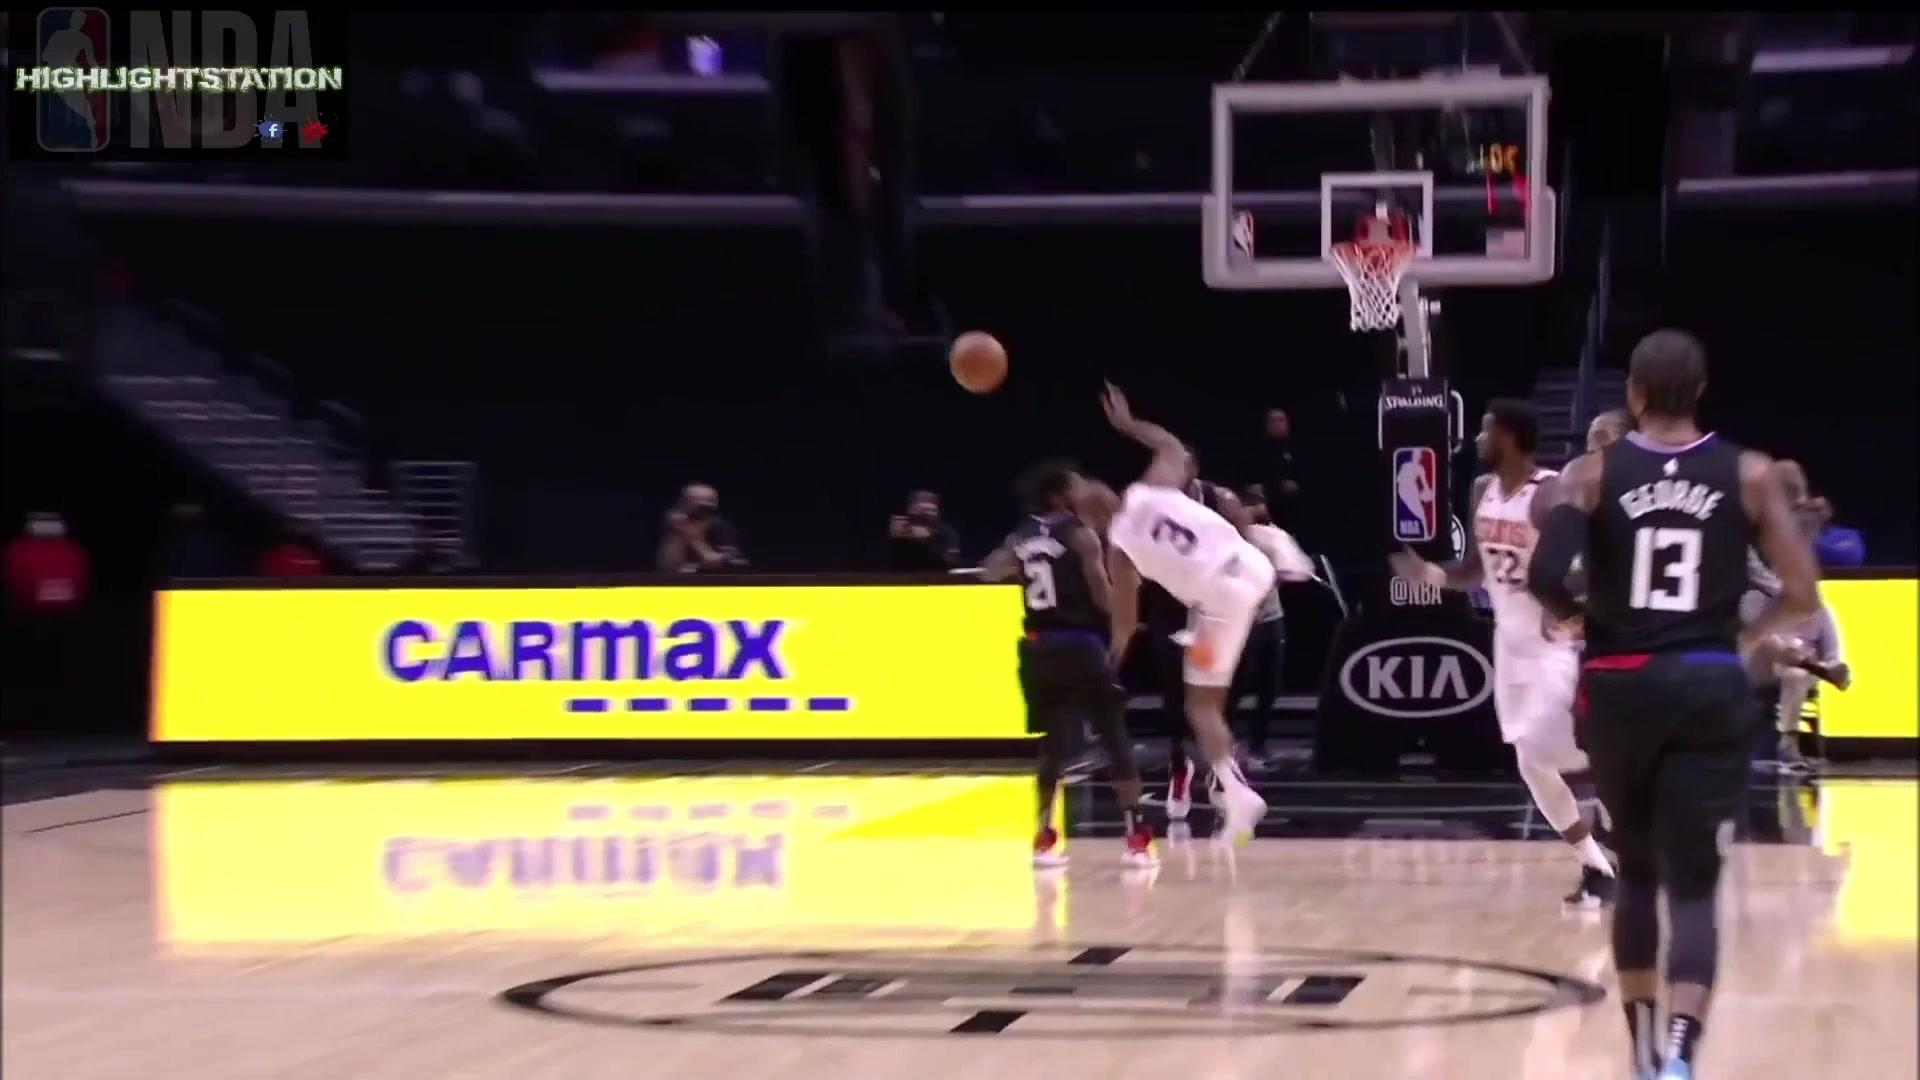foul: (969, 454, 1279, 861)
